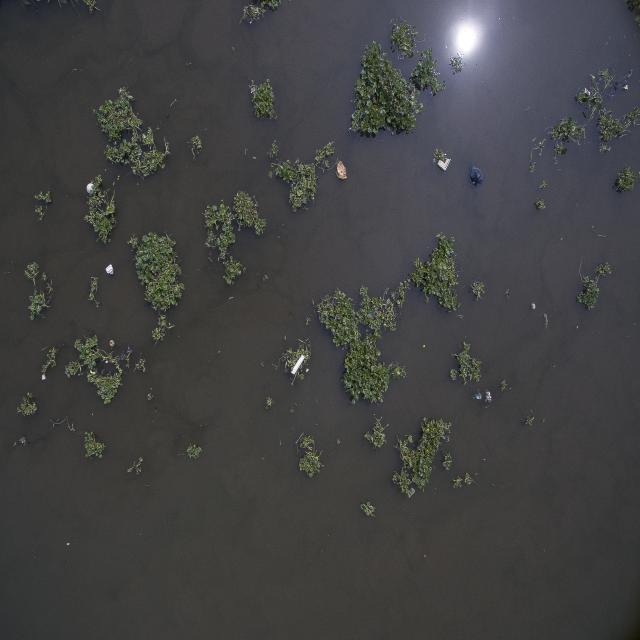plastic: (276, 350, 316, 380), (431, 144, 456, 176), (468, 162, 487, 190), (84, 174, 101, 204), (332, 157, 352, 178), (104, 261, 120, 281)
